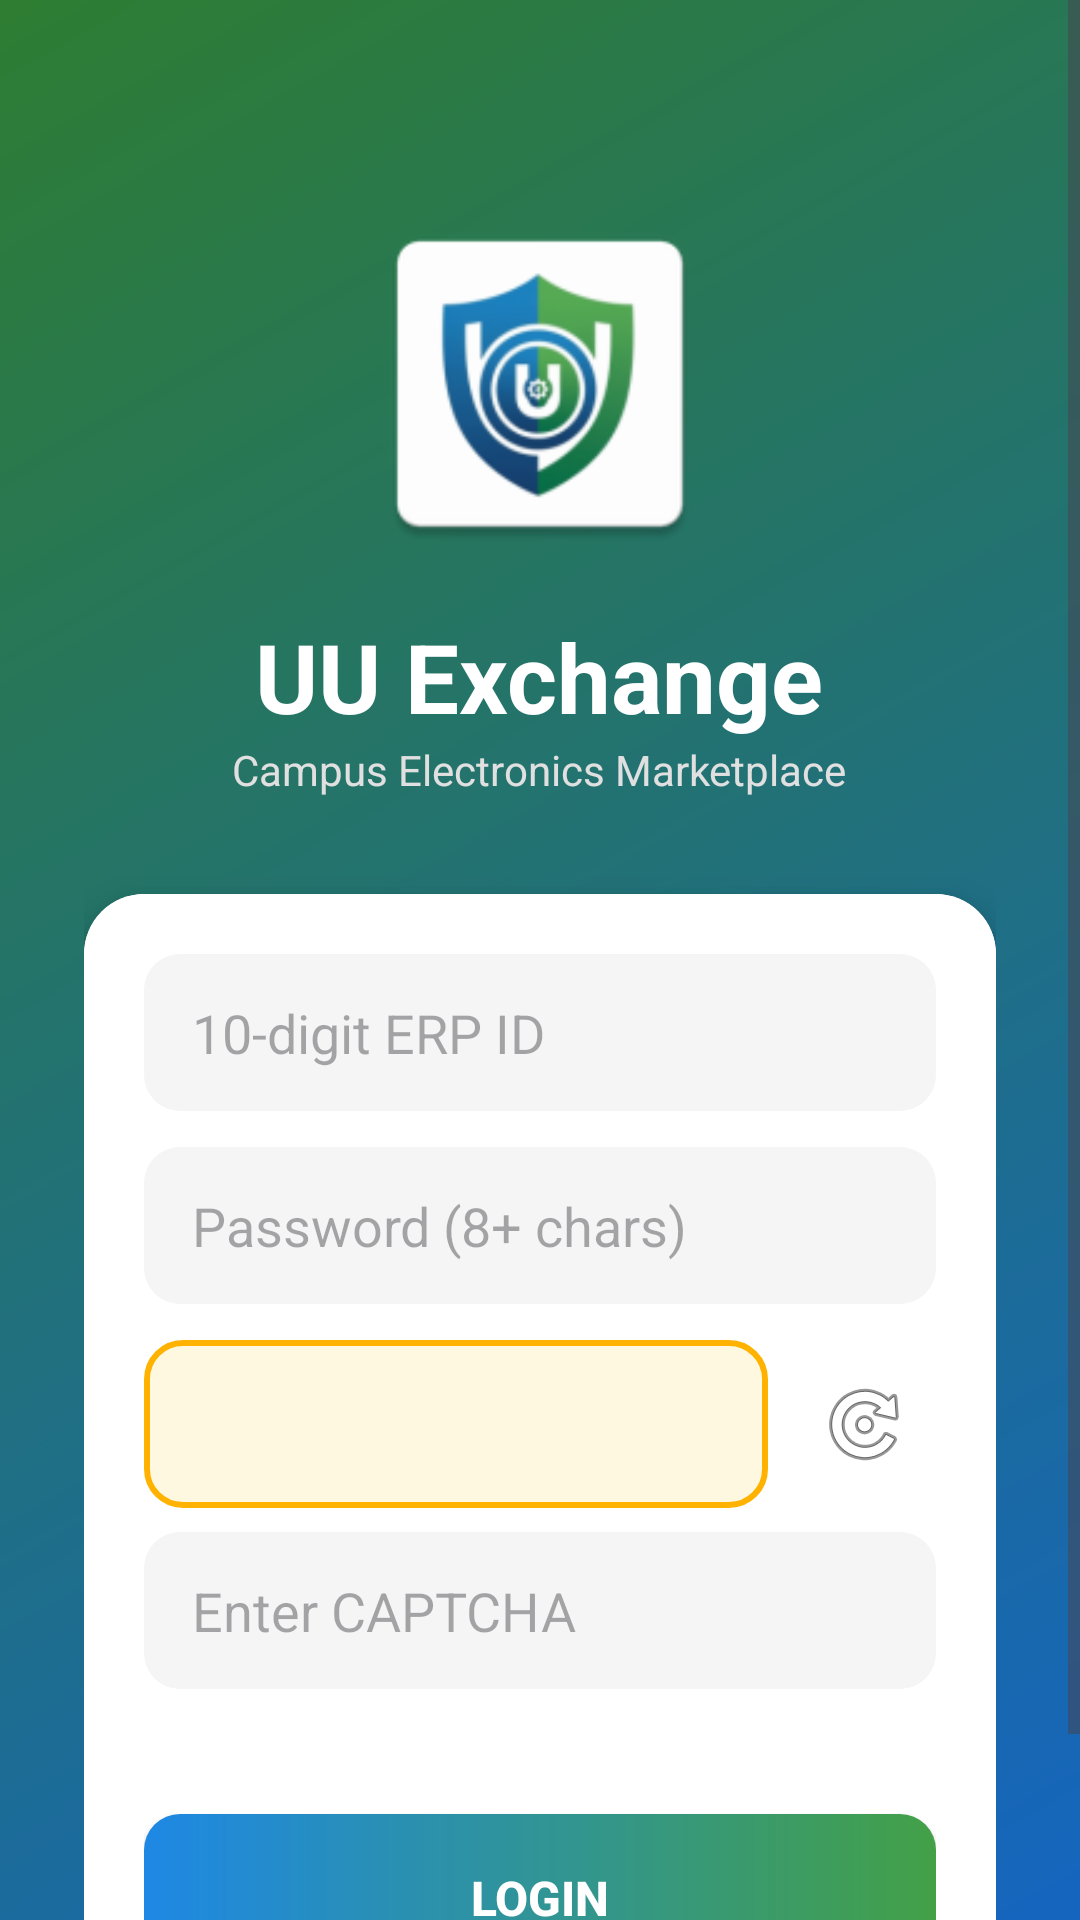

Screen size 1080×1920. Icon name, then its box in pixels as box(x1, y1, x2, y2):
refresh: box(829, 1389, 899, 1460)
